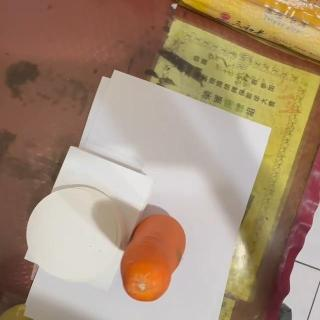carrot: (119, 214, 187, 303)
